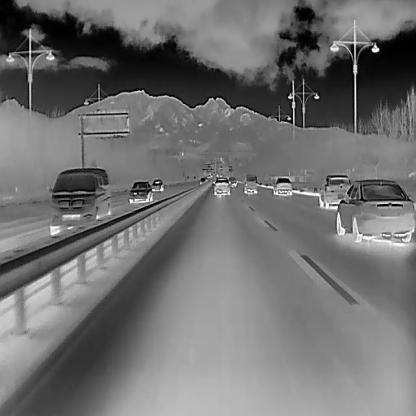car: (335, 178, 415, 243), (47, 168, 115, 236), (318, 173, 352, 208), (128, 181, 152, 204), (272, 176, 292, 195), (212, 176, 230, 197), (243, 173, 258, 193), (151, 178, 163, 191), (228, 175, 237, 187), (199, 176, 205, 185)
